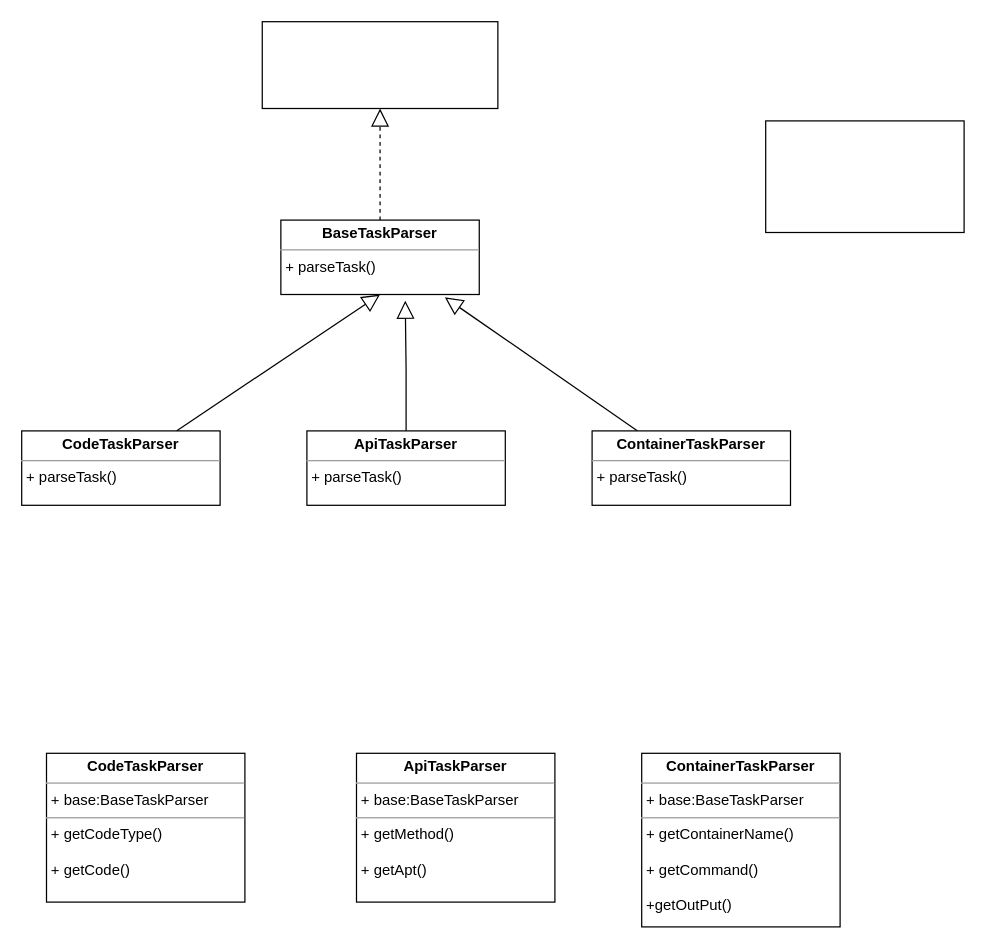
Image size: 986x949. Some labels were removed from this diagram. The shapes that lost their labels are listed below. From the top down, each one's centre as x and y in pixels, then its label:
the point at 379,64: <<Interface>> TaskParser + parseTask()
the point at 864,176: TaskParserManager + parsers: []TaskParser + get(): TaskParser
